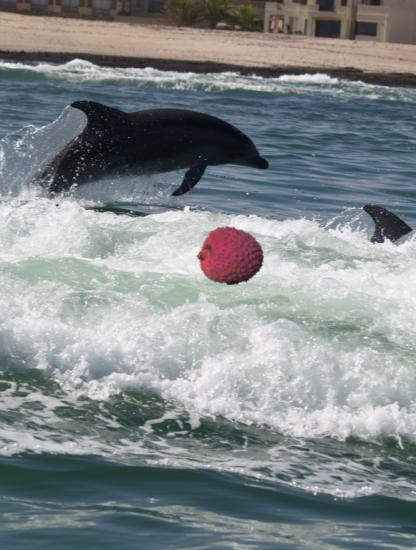Lychee: (195, 221, 265, 291)
